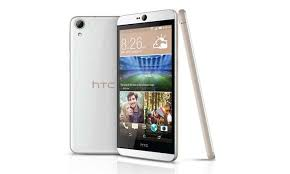htc: (116, 6, 177, 164), (67, 12, 120, 155)
